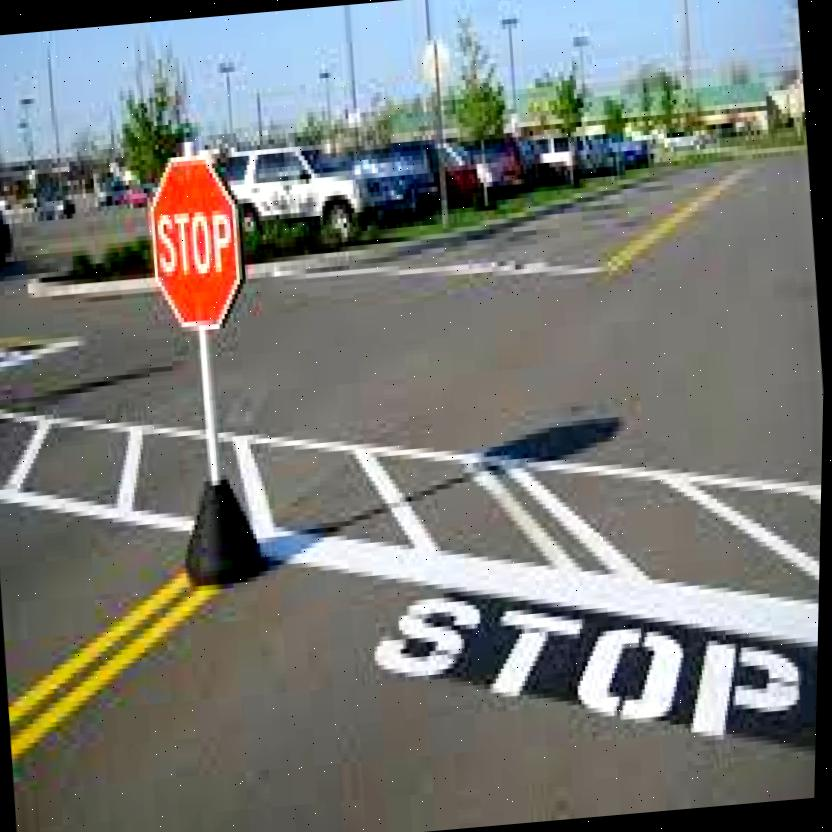Pole: (197, 330, 229, 482)
Sign: (144, 154, 248, 331)
